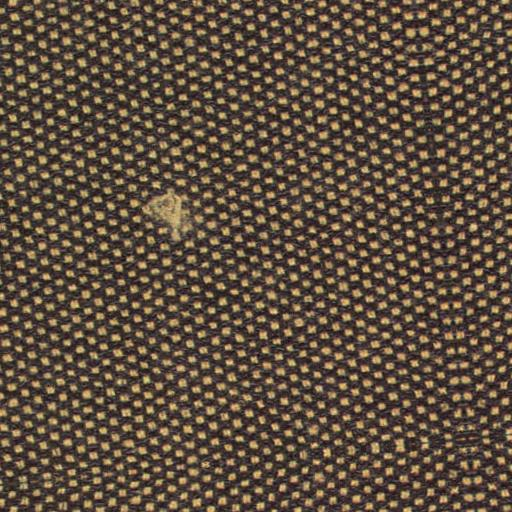knot: (137, 191, 198, 245)
